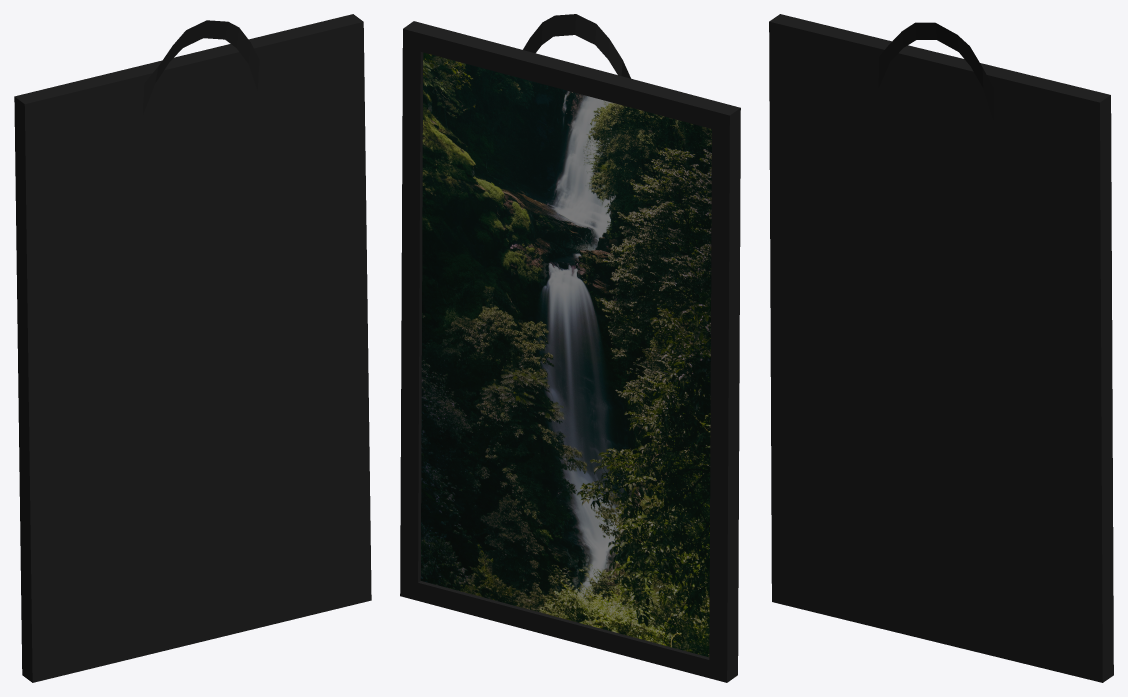
Rendered from frame2.glb.
The picture shows the model from 3 angles, left to right: view 1: azimuth 30°, elevation 25°; view 2: azimuth 150°, elevation 25°; view 3: azimuth 330°, elevation 25°; orthographic projection.
Visible parts, largest first — view 1: frame.002, frame.001; view 2: frame.002, frame.001; view 3: frame.002, frame.001.
Part boxes in pixels (x1,y1,x2,y2): frame.002: (14,14,371,682); frame.001: (143,20,259,114); frame.002: (400,21,740,682); frame.001: (523,14,630,78); frame.002: (769,14,1113,682); frame.001: (878,22,993,119).
Size of the model in its own units: 0.1468 by 0.2574 by 0.0137.
5 materials, 1 textured.
